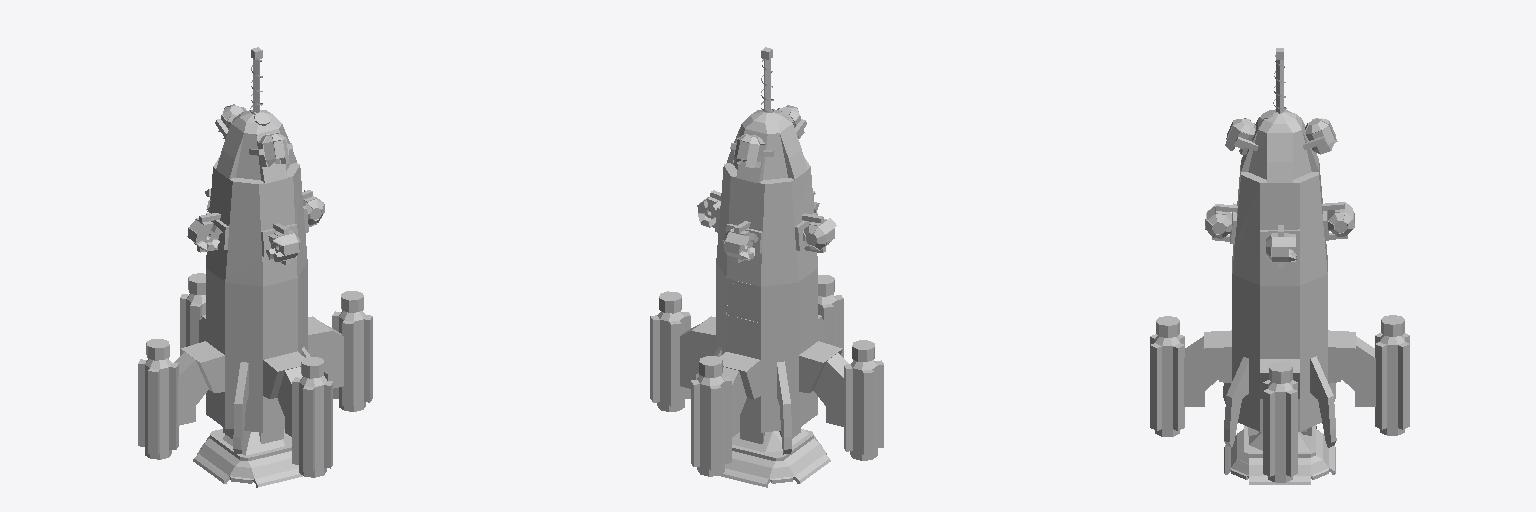
File: rocket_t6.obj
3 renders of one model, left to right at view 1: azimuth 30°, elevation 25°; view 2: azimuth 150°, elevation 25°; view 3: azimuth 270°, elevation 25°, orthographic.
Parts seen in each view (by area): view 1: Body_Rocket, Nozzle, RocketEngine, RocketEngine003, RocketEngine001, Rocket_stabilizer2, RocketEngine002, CorrectedWind4, Cylinder005, Rocket_stabilizer1, Cylinder002, Cylinder008 (+1 smaller); view 2: Body_Rocket, Nozzle, RocketEngine002, RocketEngine003, RocketEngine001, Rocket_stabilizer2, RocketEngine, GlassWindow, Cylinder001, CorrectedWind3, Cylinder002, Cylinder007 (+3 smaller); view 3: Body_Rocket, Nozzle, RocketEngine001, RocketEngine002, RocketEngine, Rocket_stabilizer4, Rocket_stabilizer3, CorrectedWind2, CorrectedWind1, Cylinder001, Cylinder004, Cylinder007 (+2 smaller).
Boxes of the visible parts, box(x1,y1,x2,y2) form: Body_Rocket: box(181, 110, 331, 443); Nozzle: box(193, 429, 302, 487); RocketEngine: box(292, 376, 332, 477); RocketEngine003: box(138, 358, 178, 459); RocketEngine001: box(332, 310, 372, 411); Rocket_stabilizer2: box(174, 352, 208, 425); RocketEngine002: box(180, 293, 205, 355); CorrectedWind4: box(233, 362, 248, 453); Cylinder005: box(266, 223, 301, 264); Rocket_stabilizer1: box(321, 322, 343, 388); Cylinder002: box(187, 213, 222, 252); Cylinder008: box(249, 133, 292, 166); Body_Rocket: box(692, 110, 842, 443); Nozzle: box(720, 429, 830, 487); RocketEngine002: box(691, 376, 731, 476); RocketEngine003: box(844, 360, 883, 460); RocketEngine001: box(650, 311, 690, 411); Rocket_stabilizer2: box(813, 353, 848, 426); RocketEngine: box(818, 294, 843, 357); GlassWindow: box(726, 281, 760, 319); Cylinder001: box(722, 221, 758, 263); CorrectedWind3: box(777, 361, 791, 454); Cylinder002: box(802, 213, 836, 252); Cylinder007: box(730, 134, 774, 167); Body_Rocket: box(1204, 110, 1355, 435); Nozzle: box(1224, 425, 1335, 484); RocketEngine001: box(1263, 380, 1297, 482); RocketEngine002: box(1375, 333, 1409, 435); RocketEngine: box(1150, 334, 1184, 436); Rocket_stabilizer4: box(1184, 336, 1217, 406); Rocket_stabilizer3: box(1342, 336, 1375, 406); CorrectedWind2: box(1310, 356, 1336, 447); CorrectedWind1: box(1224, 357, 1248, 447); Cylinder001: box(1322, 202, 1354, 239); Cylinder004: box(1266, 225, 1296, 267); Cylinder007: box(1303, 118, 1337, 154).
Bounding box in the file's own units: 5.88 × 10.32 × 5.91.